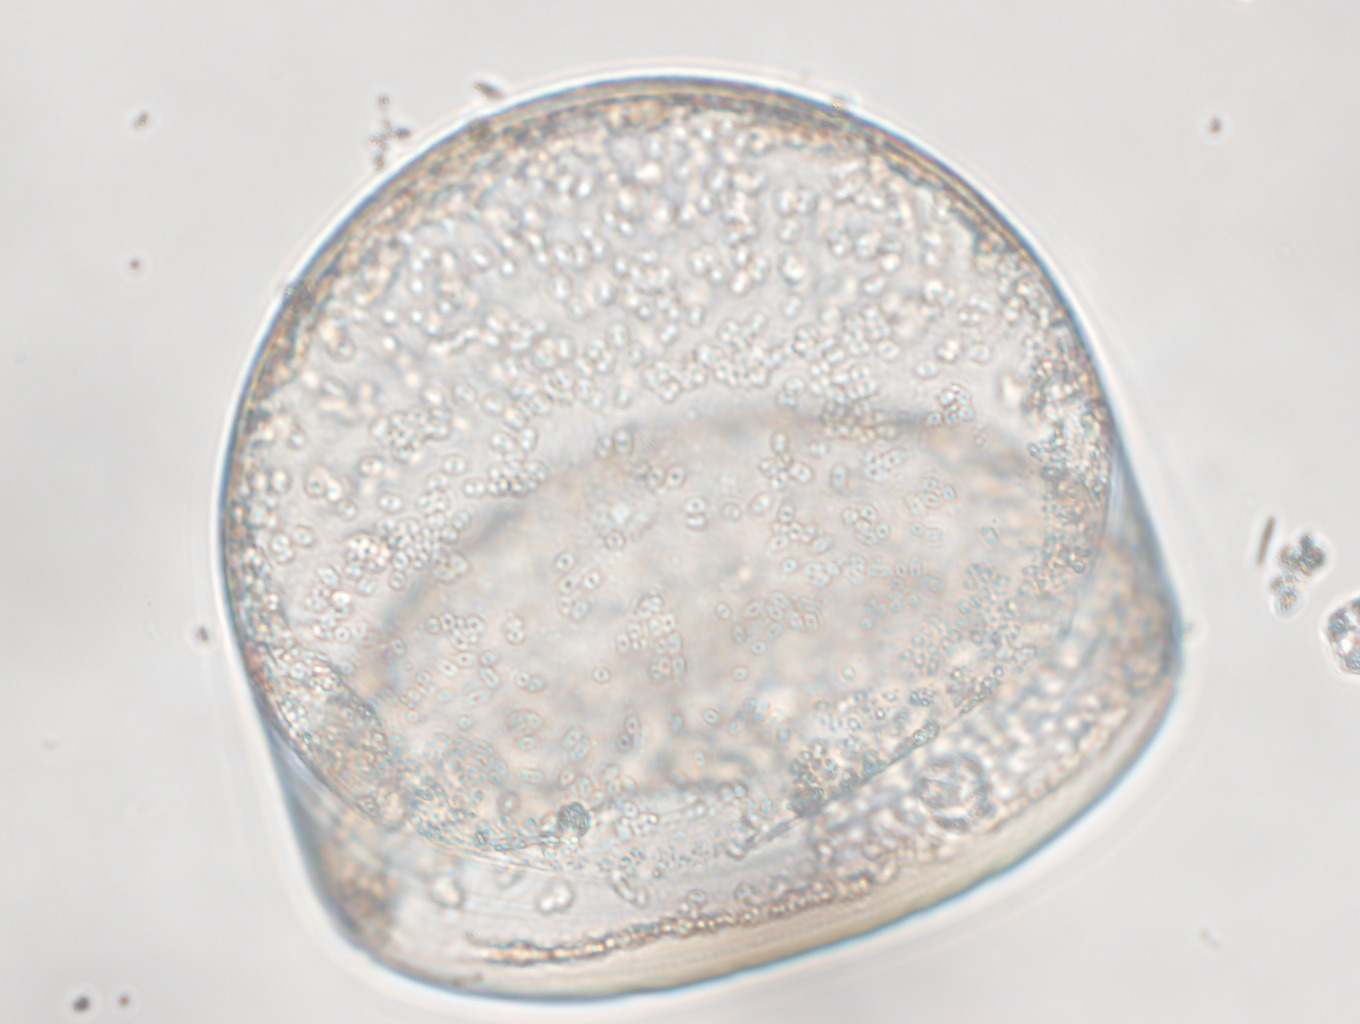coscinodiscus flank: (217, 73, 1184, 1008)
